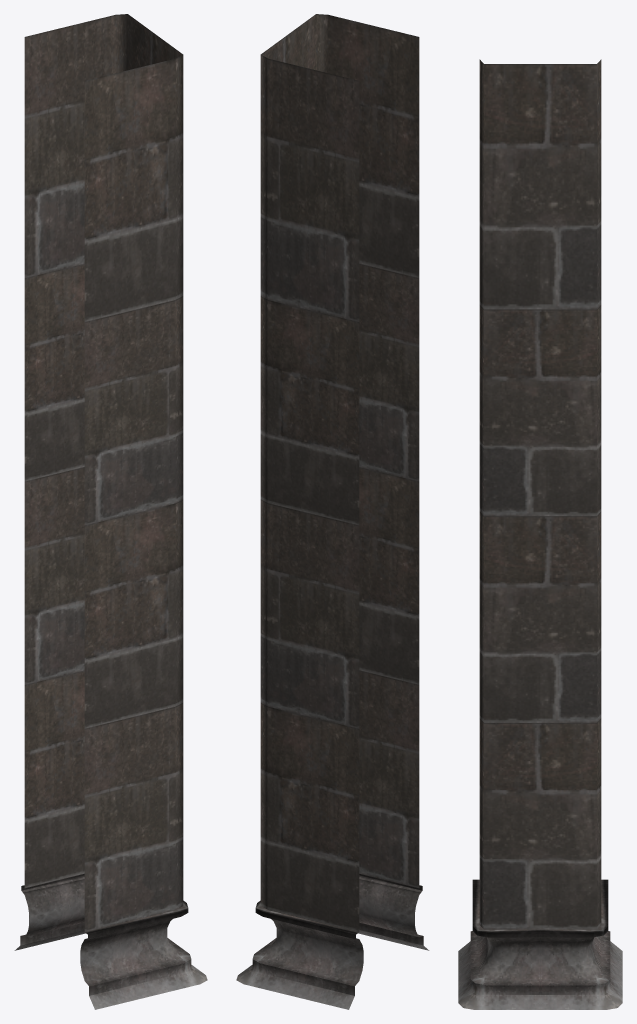
File: Psychiatric_Ward_Basement_Lower_Pillar.glb
The picture shows the model from 3 angles, left to right: view 1: azimuth 30°, elevation 25°; view 2: azimuth 150°, elevation 25°; view 3: azimuth 270°, elevation 25°; orthographic projection.
Visible parts, largest first — view 1: Psychiatric_Ward_Basement_Lower_Pillar; view 2: Psychiatric_Ward_Basement_Lower_Pillar; view 3: Psychiatric_Ward_Basement_Lower_Pillar.
Part boxes in pixels (bbox=[...]): Psychiatric_Ward_Basement_Lower_Pillar: bbox=[14, 14, 207, 1009]; Psychiatric_Ward_Basement_Lower_Pillar: bbox=[236, 14, 429, 1009]; Psychiatric_Ward_Basement_Lower_Pillar: bbox=[458, 59, 622, 1009].
Bounding box in the file's own units: 0.4049 × 3 × 0.4761.
Materials: 1 (1 with a texture image).
